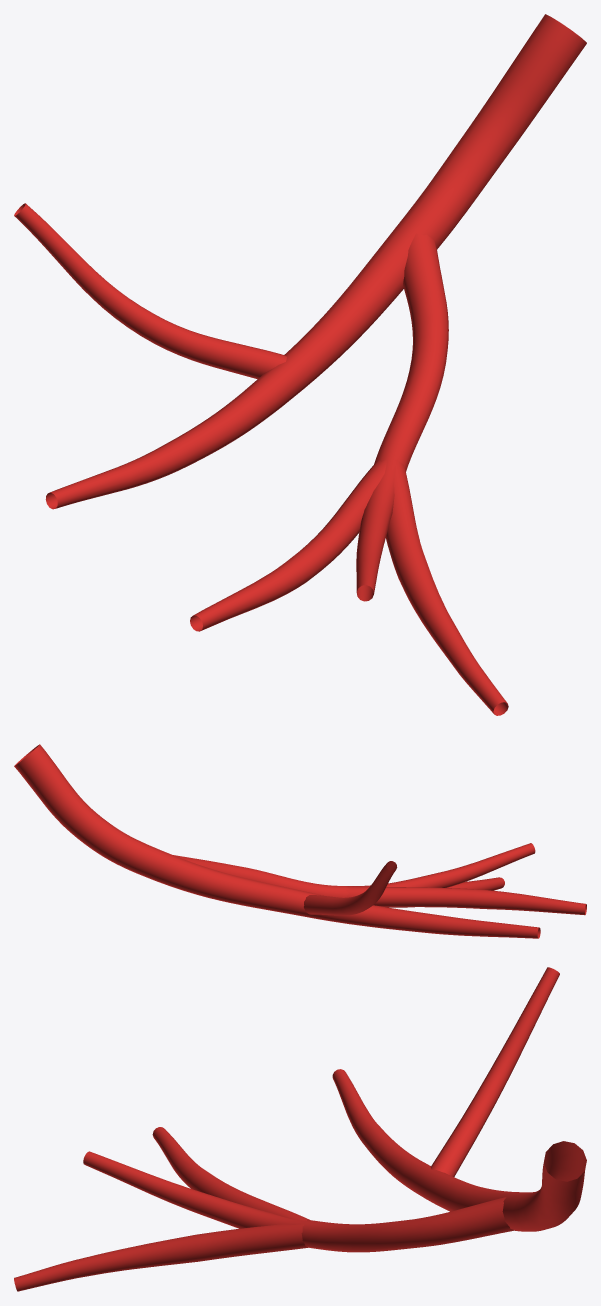
File: circulatorio-lateral-vein-of-right-lung.glb
3 renders of one model, top to bottom at view 1: azimuth 30°, elevation 25°; view 2: azimuth 150°, elevation 25°; view 3: azimuth 270°, elevation 25°, orthographic. The views are drawn at different scales.
Parts seen in each view (by area): view 1: Lateral vein of right lung; view 2: Lateral vein of right lung; view 3: Lateral vein of right lung.
Boxes of the visible parts, <box> form: Lateral vein of right lung: <box>14,14,586,715</box>; Lateral vein of right lung: <box>14,744,586,938</box>; Lateral vein of right lung: <box>14,967,586,1291</box>.
Bounding box in the file's own units: 0.0883 × 0.0462 × 0.079.
